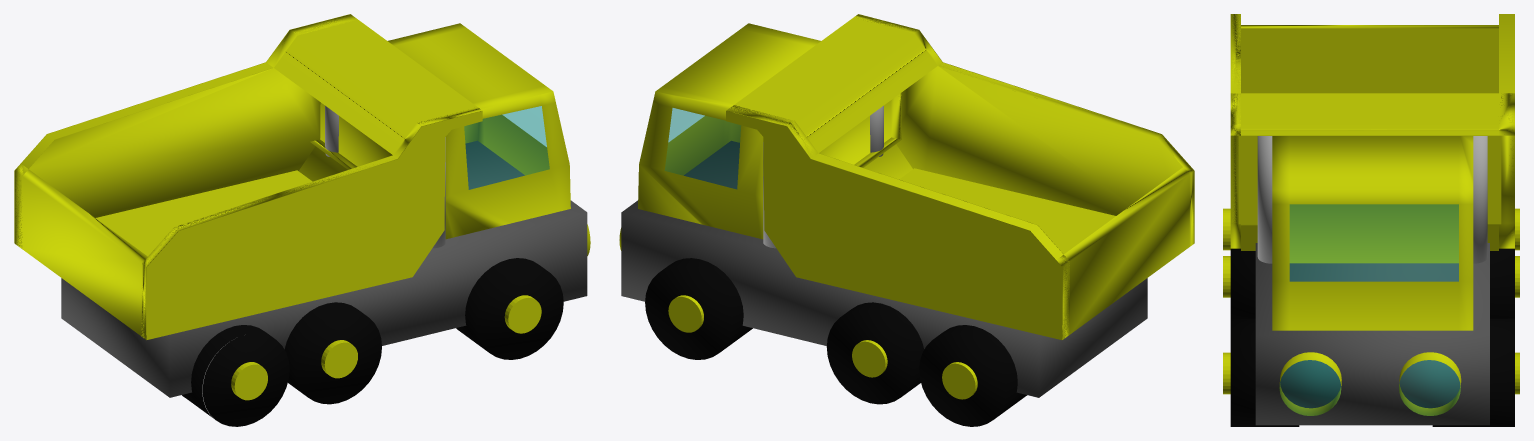
File: heavy_equipment_2.fbx
3 renders of one model, left to right at view 1: azimuth 30°, elevation 25°; view 2: azimuth 150°, elevation 25°; view 3: azimuth 270°, elevation 25°, orthographic. The views are drawn at different scales.
Parts seen in each view (by area): view 1: Plane; view 2: Plane; view 3: Plane.
Part boxes in pixels (box(x1,y1,x2,y2)): Plane: box(14, 14, 590, 426); Plane: box(619, 14, 1194, 426); Plane: box(1223, 14, 1519, 426).
Bounding box in the file's own units: 321 × 169 × 163.
